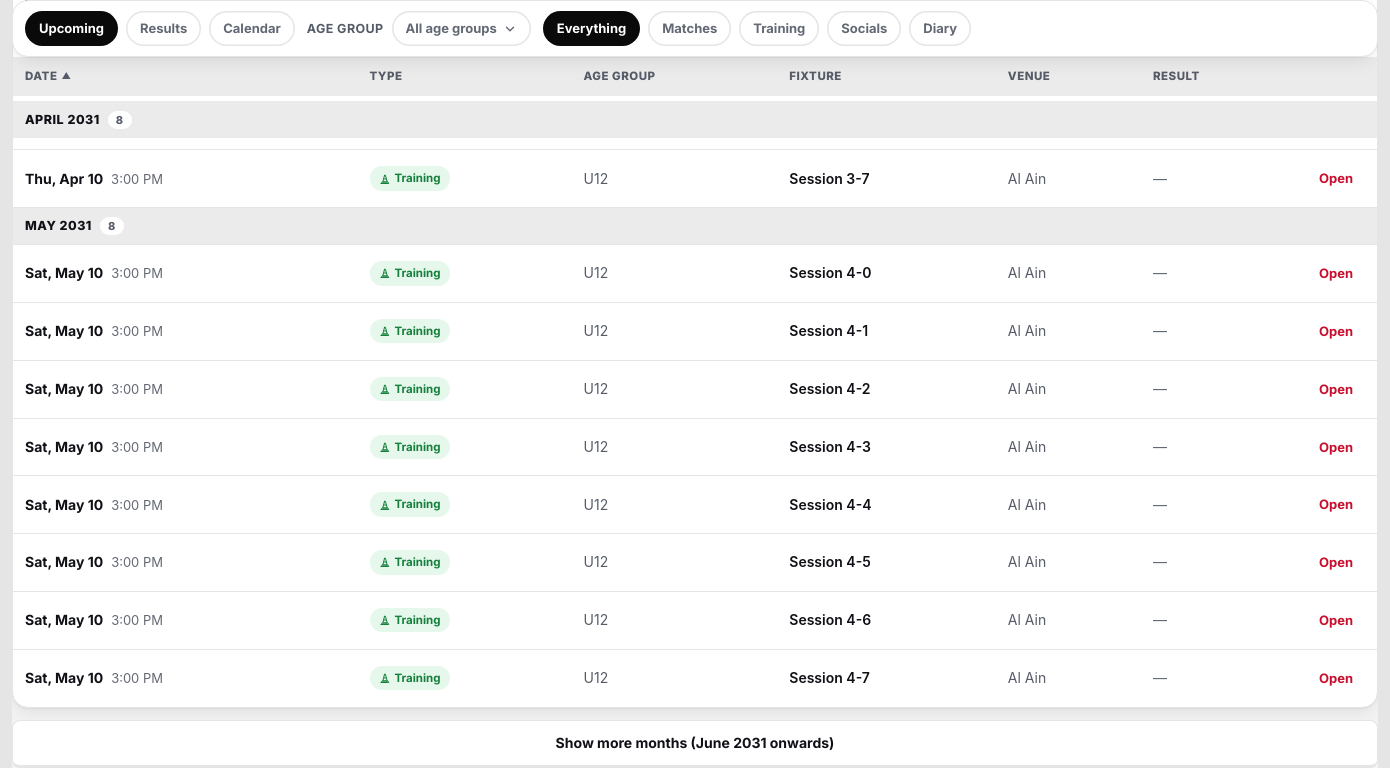
Test: ScheduleTable — month groups › reveals later months without inventing numbered pages
The width and height of the screenshot is (1390, 768).
(page scrolled)
Check: the text "Session 7-0" is not shown
Click the button "Show more months (June 2031 onwards)" at coordinates (695, 744), box left=12, top=720, right=1378, bottom=767
(page scrolled)
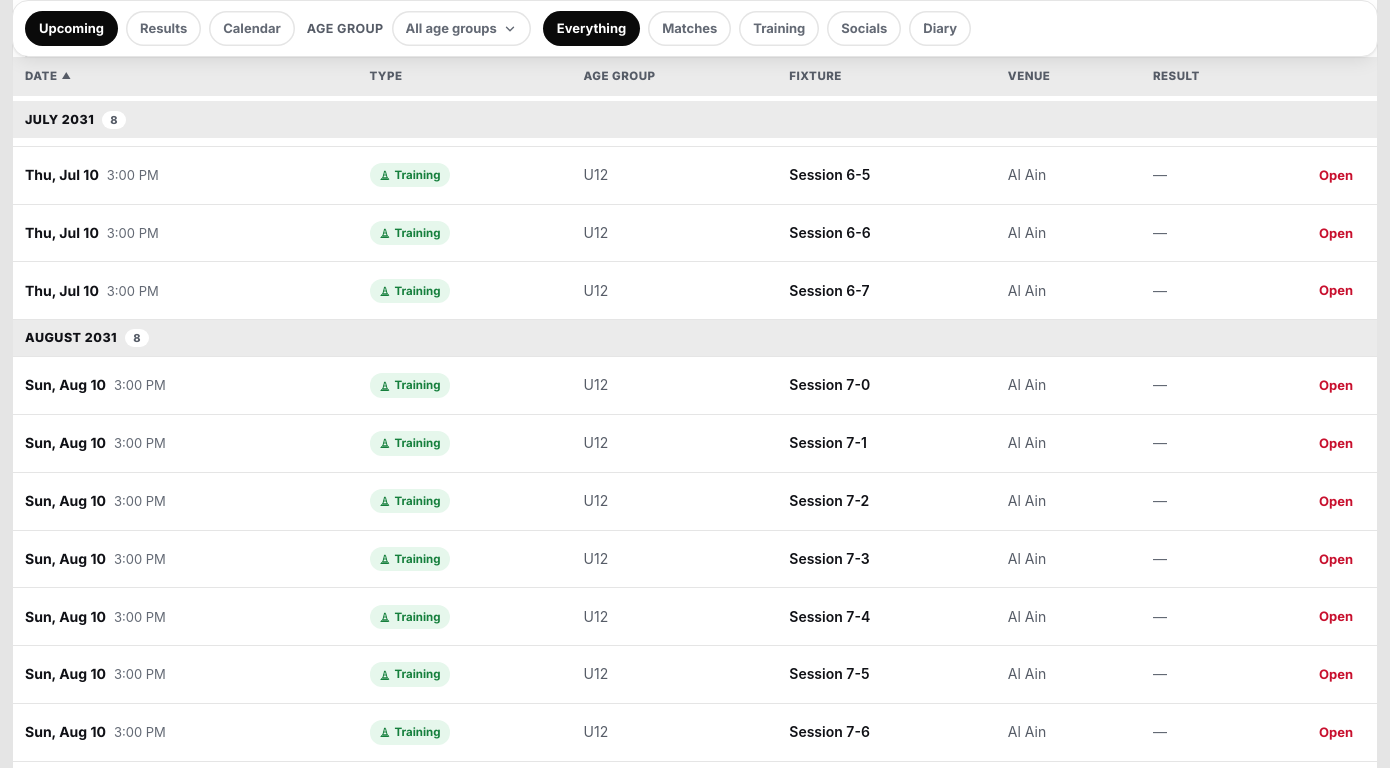
Check: the text "Session 7-0" is shown, box left=789, top=376, right=870, bottom=394
